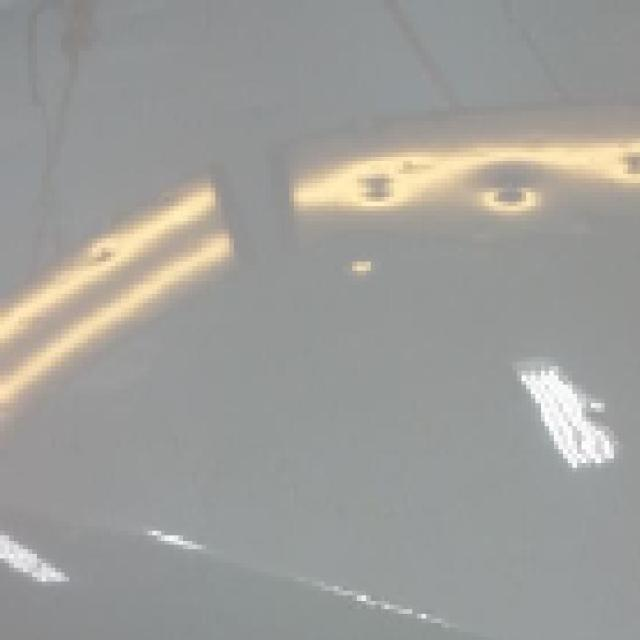dent: (485, 182, 538, 211), (357, 172, 394, 203), (620, 145, 640, 176), (348, 254, 376, 274), (93, 245, 116, 267), (398, 160, 434, 174)
